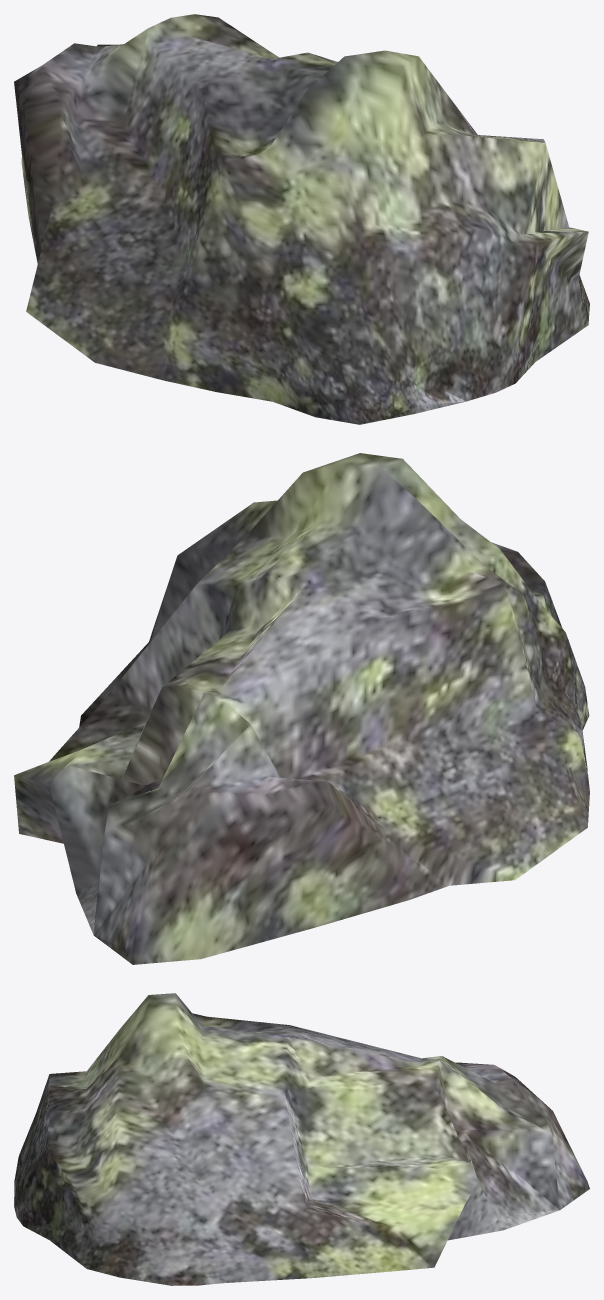
File: mountain_2.fbx
3 renders of one model, top to bottom at view 1: azimuth 30°, elevation 25°; view 2: azimuth 150°, elevation 25°; view 3: azimuth 270°, elevation 25°, orthographic. The views are drawn at different scales.
Visible parts, largest first — view 1: mountain_2; view 2: mountain_2; view 3: mountain_2.
Boxes of the visible parts, x1,y1,x2,y2 form: mountain_2: [14, 14, 589, 424]; mountain_2: [14, 453, 589, 964]; mountain_2: [14, 993, 589, 1285].
Bounding box in the file's own units: 45.64 × 65.81 × 26.06.
1 material, 1 textured.
